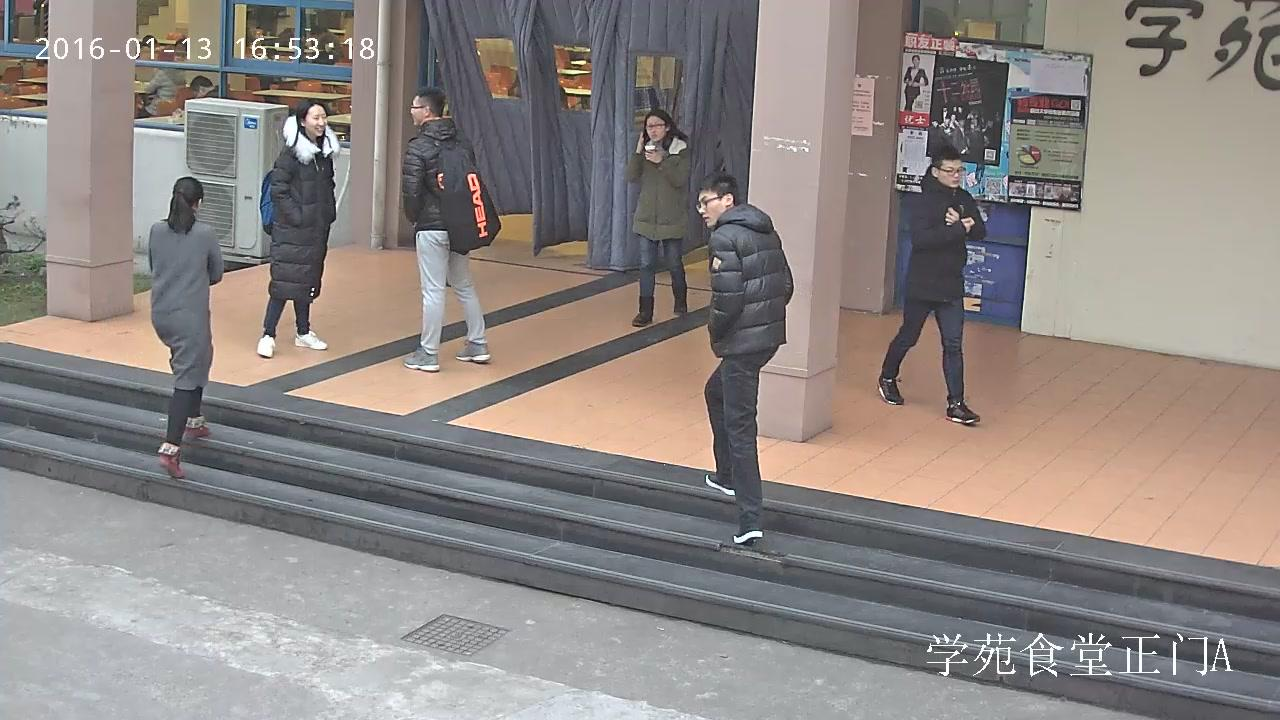person: (694, 173, 795, 546), (876, 146, 982, 426), (399, 89, 502, 373), (147, 177, 224, 479), (256, 102, 339, 359), (626, 109, 692, 327), (136, 68, 186, 117), (309, 21, 343, 67), (903, 55, 929, 113), (246, 19, 276, 60), (188, 75, 234, 98)
